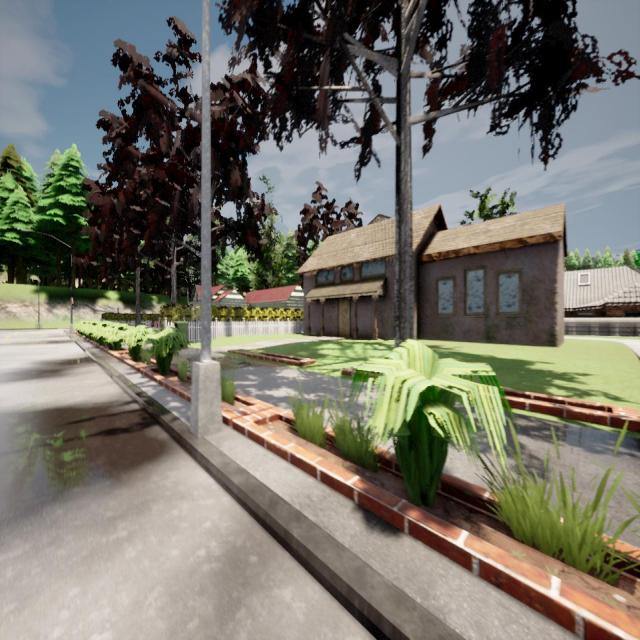traffic_light: (72, 300, 74, 309)
